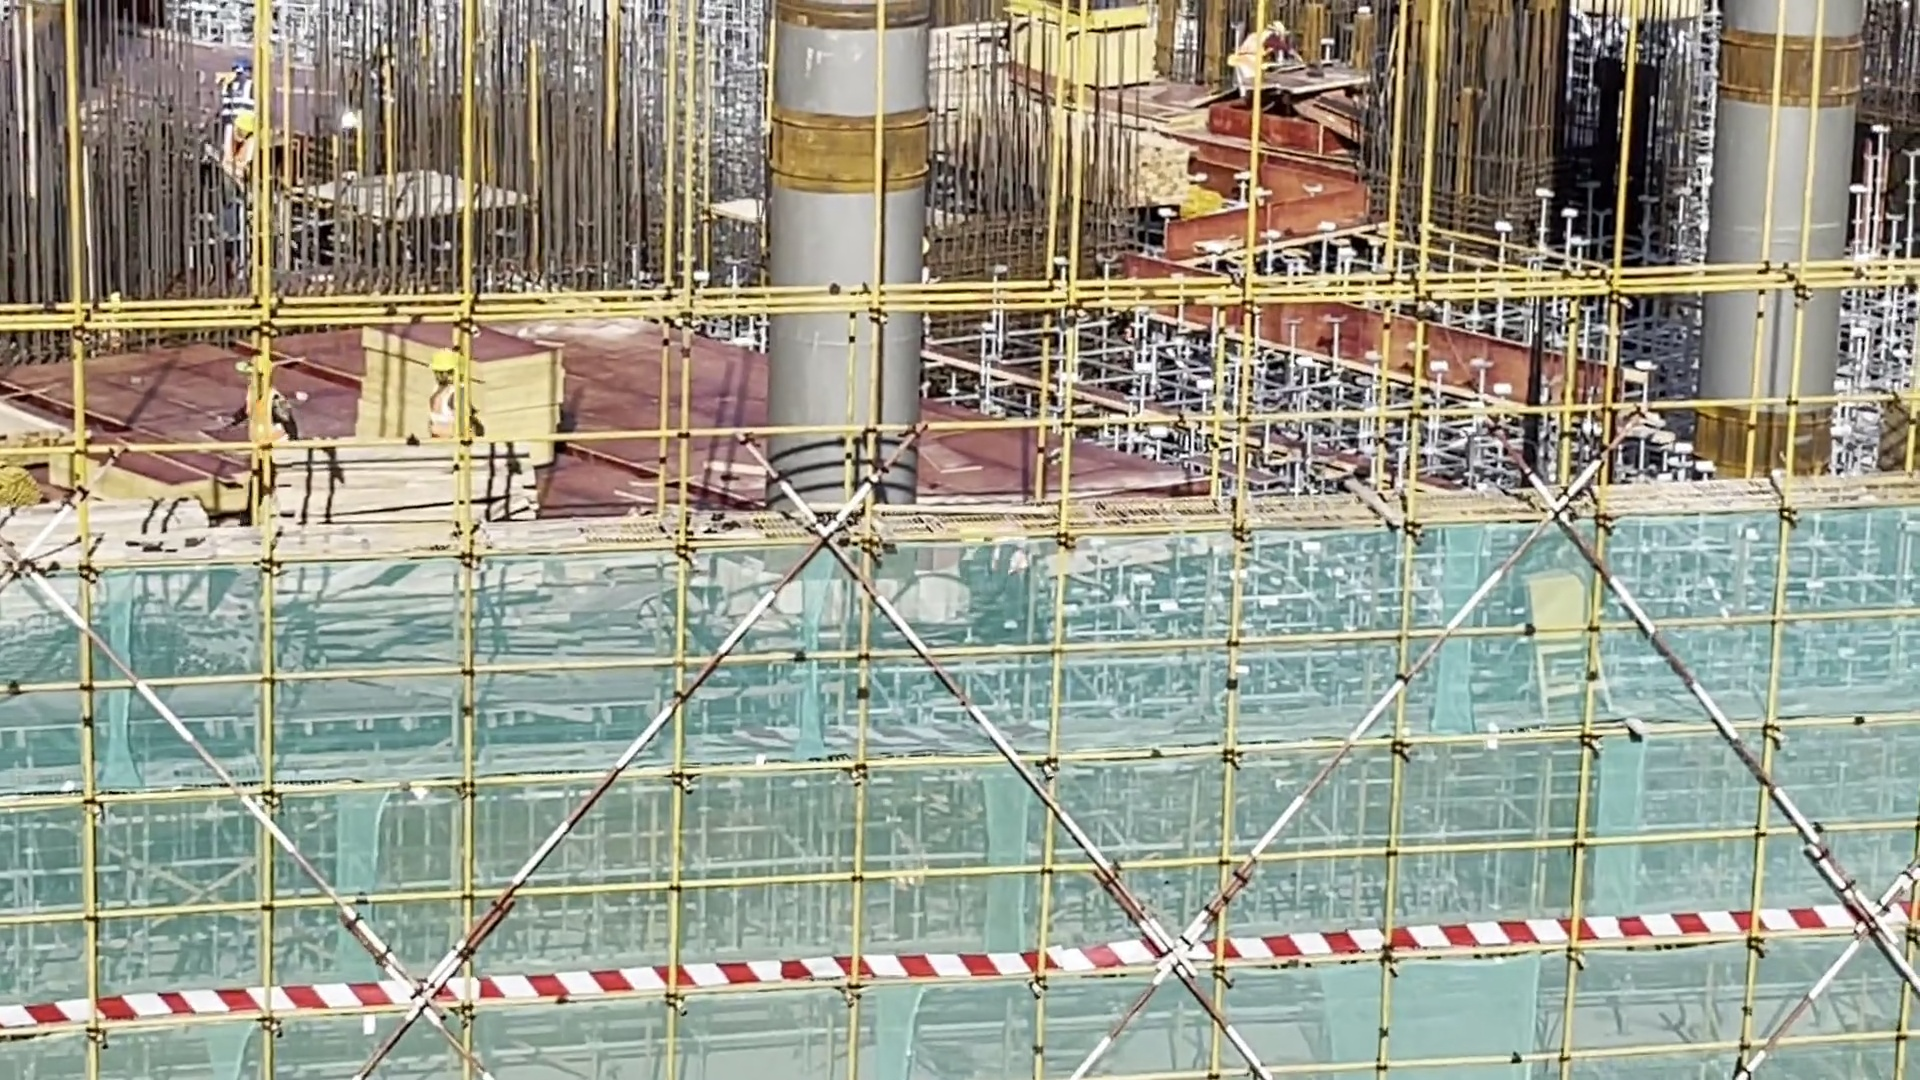helmet: (228, 106, 260, 141), (239, 359, 277, 380), (432, 350, 463, 374), (1271, 16, 1291, 35)
person: (213, 357, 313, 493), (415, 345, 487, 451), (211, 95, 274, 195), (1233, 2, 1292, 99)
vest: (233, 399, 287, 443), (430, 383, 468, 429), (1239, 31, 1267, 85), (222, 141, 248, 165)
